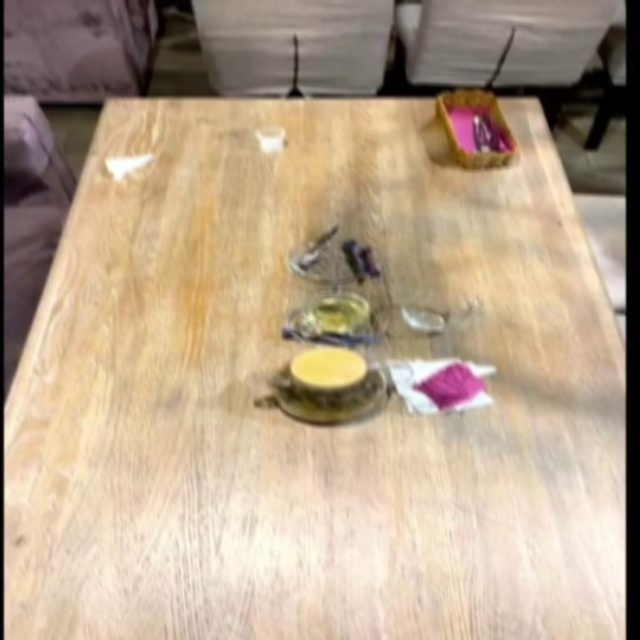tea: (267, 345, 389, 423)
